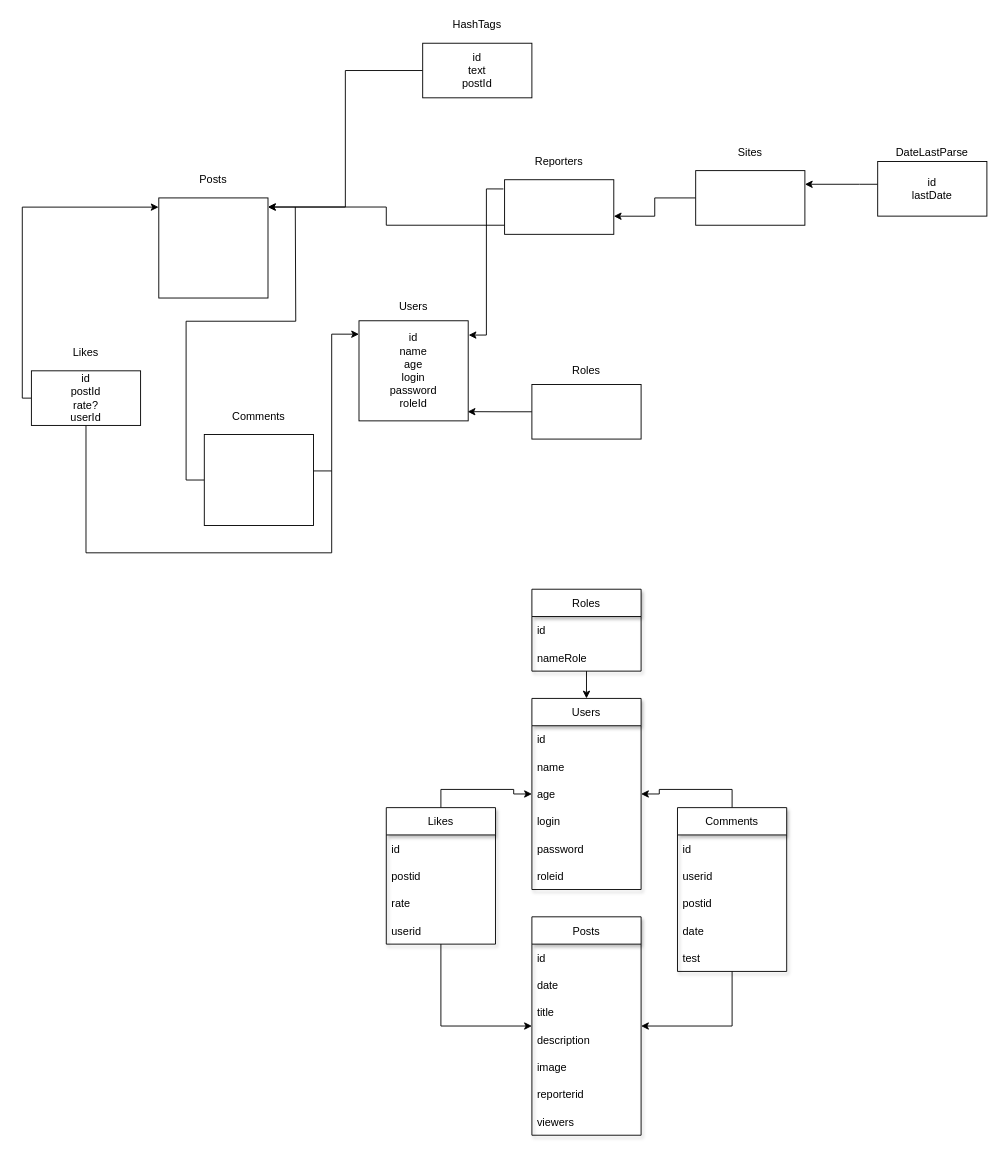
Image size: 1003x1158. Some labels were removed from this diagram. Here are the shapes that lost their labels. From the top down, the centre of each, then its label:
At (559,206): "id userId? sourseSiteId? postId".
At (750,197): "id name baseUrl".
At (213,247): "id date title description image reporterId viewers".
At (586,411): "id nameRole".
At (258,480): "id userId? postId date text".
